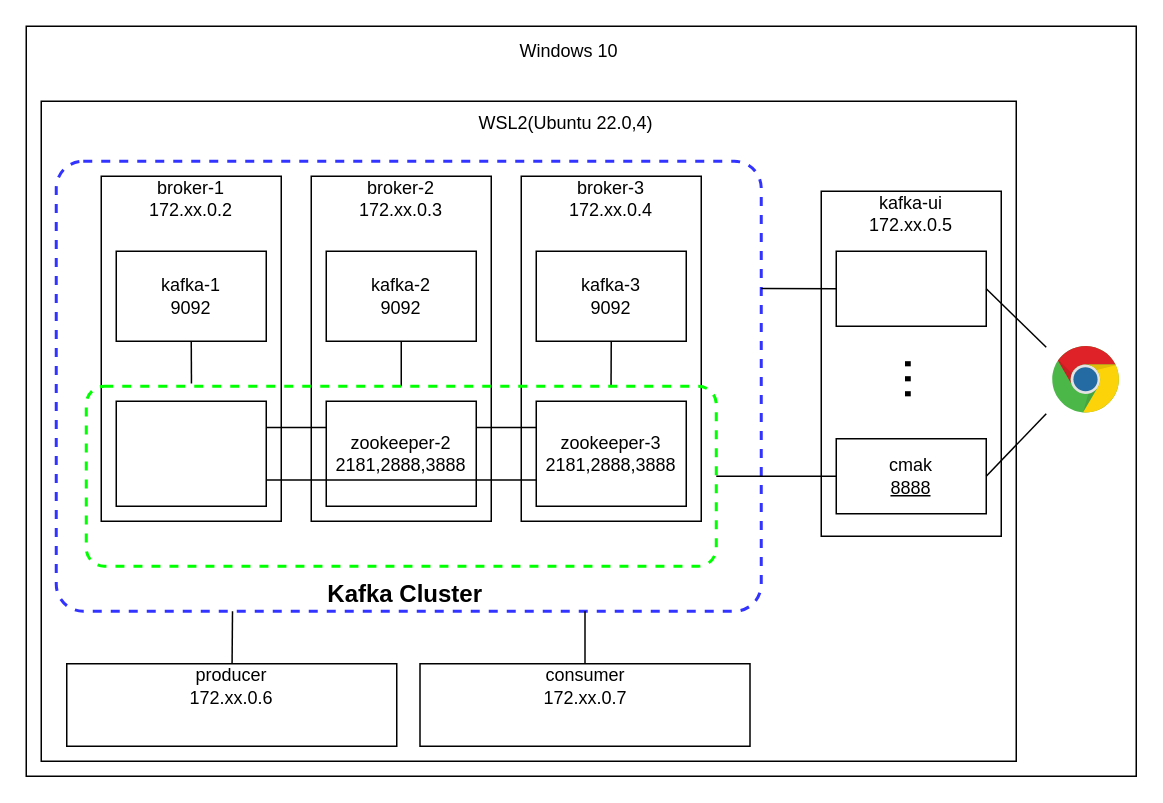
This 1163x803 diagram has some shape labels left out. The box of each missing label's shape, as (x1, y1, x2, y2) in pixels:
kafka-ui 8080: (835, 250, 986, 326)
Zookeeper Cluster: (84, 384, 717, 567)
zookeeper-1 2181,2888,3888: (115, 400, 266, 506)
